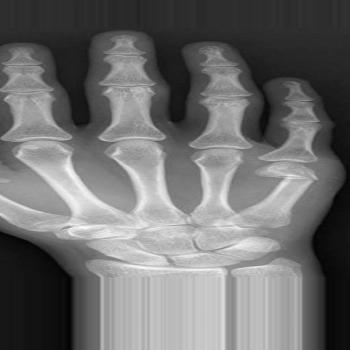Fracture: (251, 169, 328, 186)
